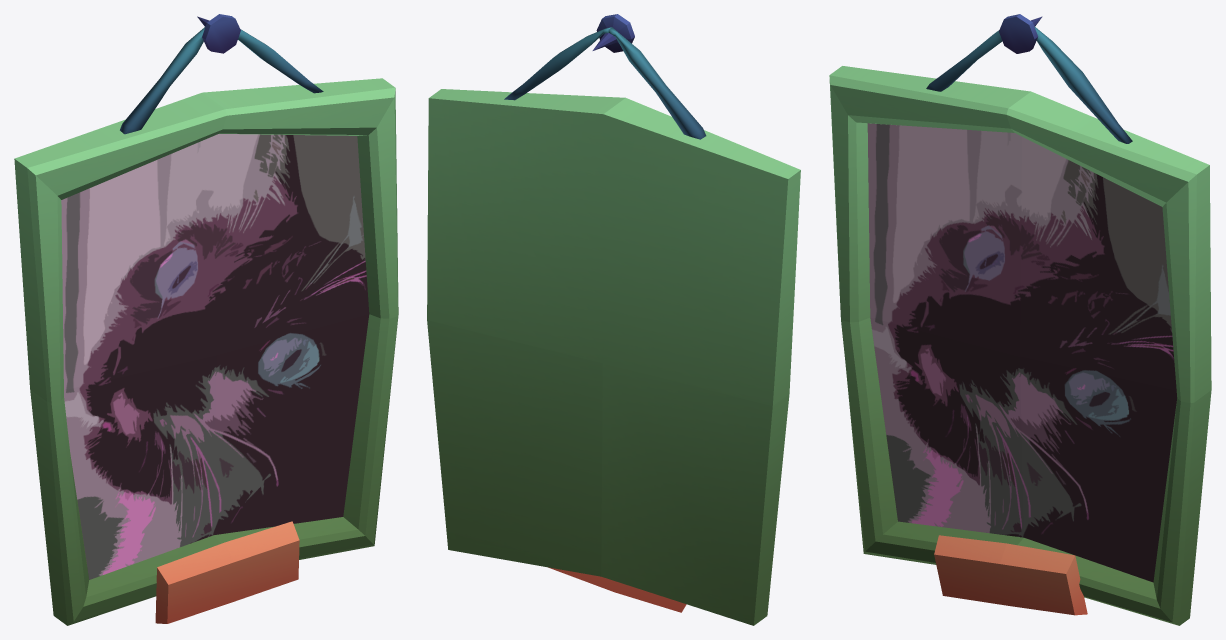
Rendered from Cuadro_C.fbx.
The picture shows the model from 3 angles, left to right: view 1: azimuth 30°, elevation 25°; view 2: azimuth 150°, elevation 25°; view 3: azimuth 330°, elevation 25°; orthographic projection. The views are drawn at different scales.
Parts seen in each view (by area): view 1: Cuadro C; view 2: Cuadro C; view 3: Cuadro C.
Part boxes in pixels (bbox=[...]): Cuadro C: bbox=[14, 14, 398, 625]; Cuadro C: bbox=[427, 14, 800, 625]; Cuadro C: bbox=[829, 14, 1211, 625].
Bounding box in the file's own units: 462 × 712 × 86.96.
